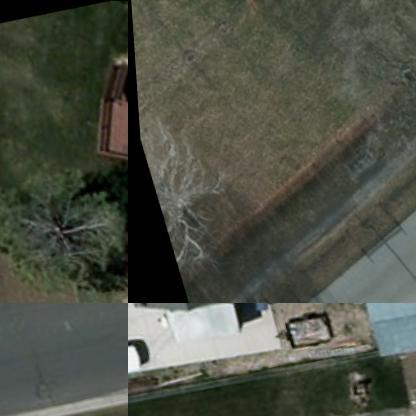car: (396, 281, 415, 302)
